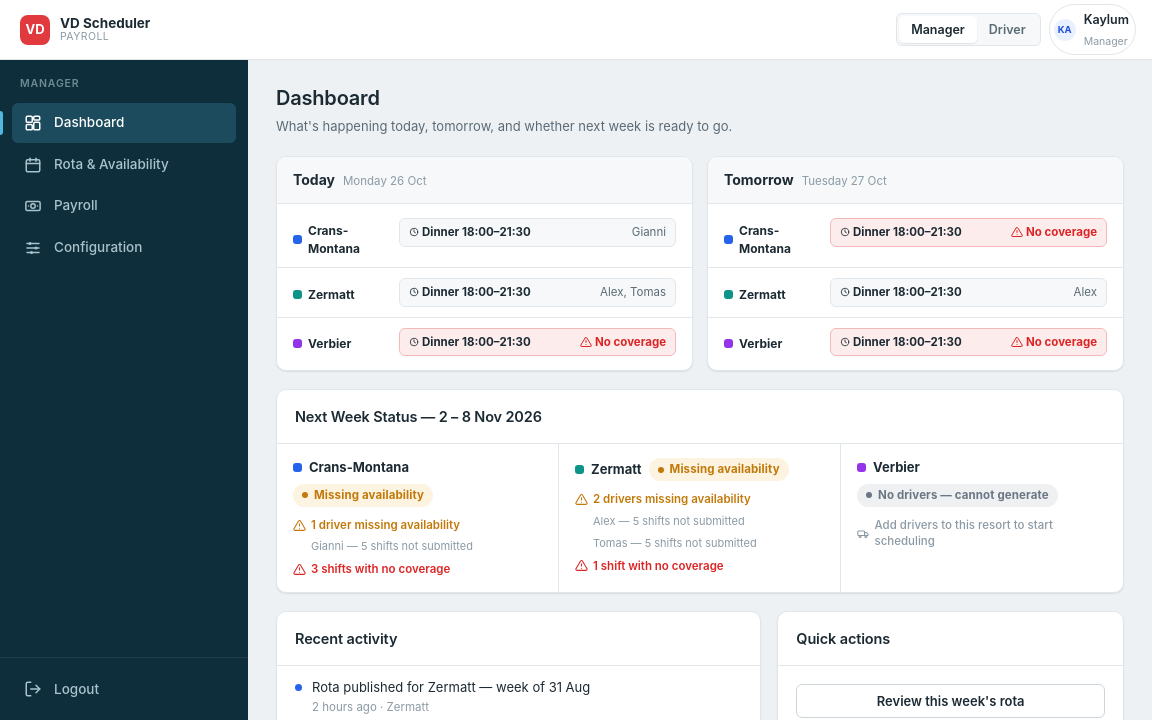
Scenario: MyRotaPage (live Driver My Rota) › 22. a PAST week that was never published says no rota was published (different copy from a current week)
The width and height of the screenshot is (1152, 720).
Click the tab "Driver" at (1007, 30), box [977, 16, 1038, 43]
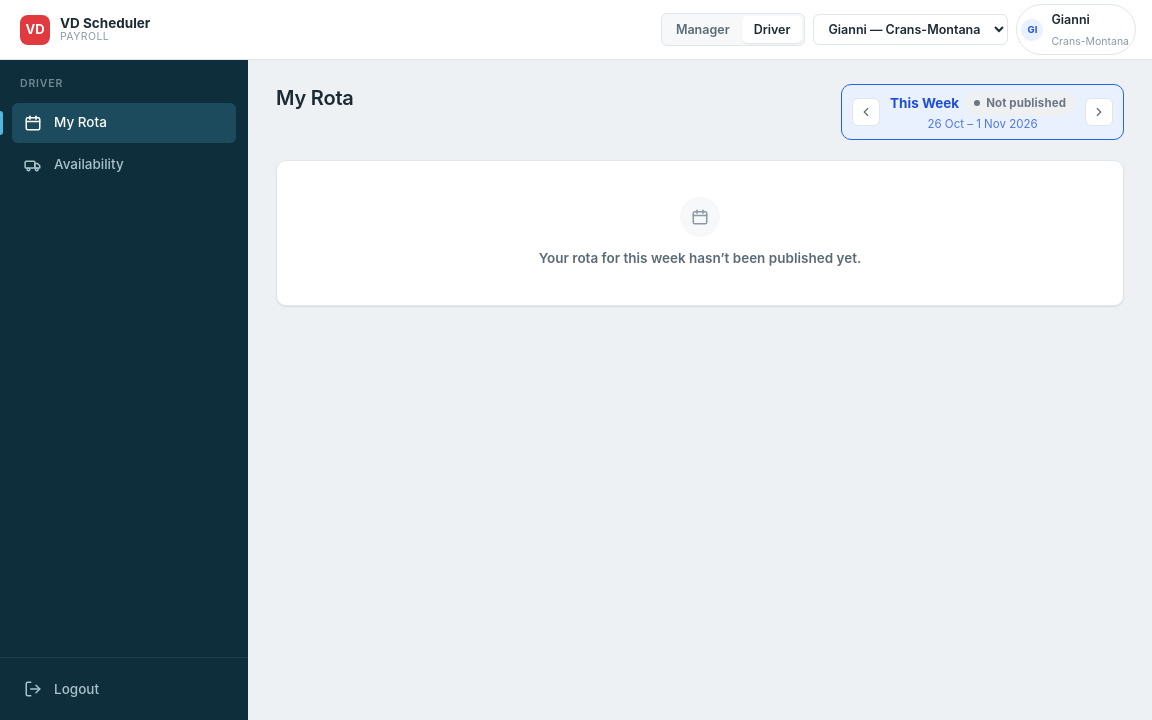
Expected: the heading "My Rota" is shown, [276, 84, 354, 113]
Expected: the text "Your rota for this week hasn’t been published yet." is shown, [539, 249, 861, 269]
Click the button named "Previous week" at (866, 112), box [852, 98, 880, 126]
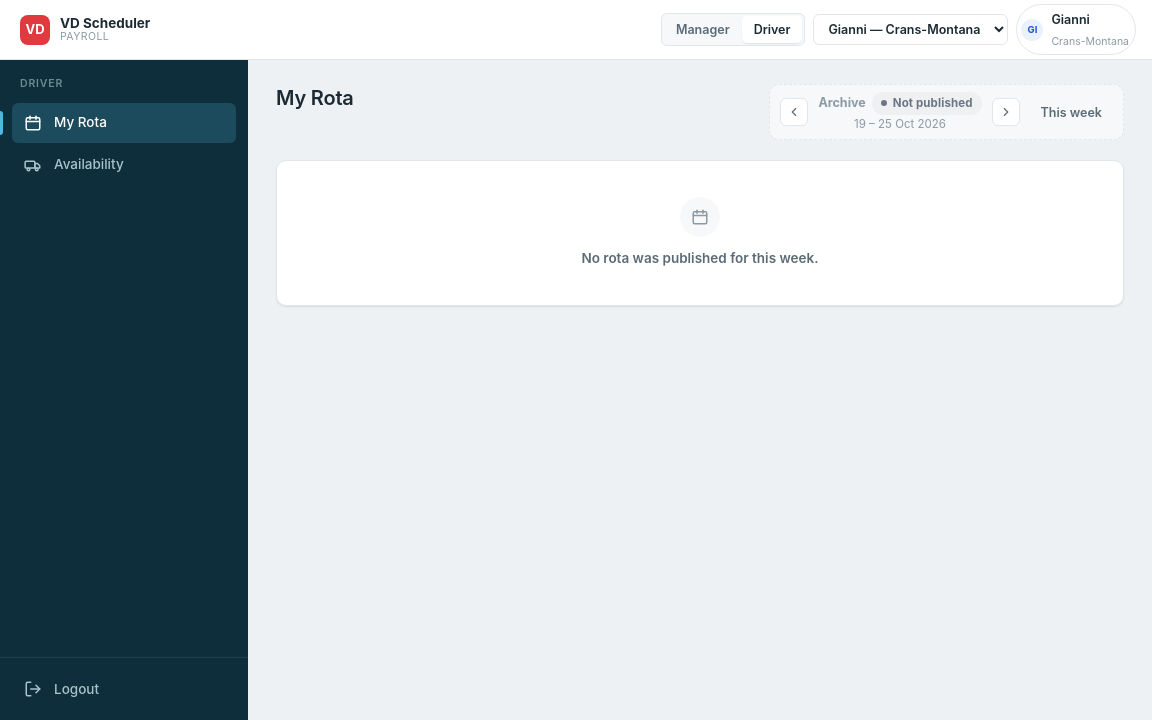
Expected: the text "No rota was published for this week." is shown, [582, 249, 819, 269]
Expected: the text "Your rota for this week hasn’t been published yet." is gone
